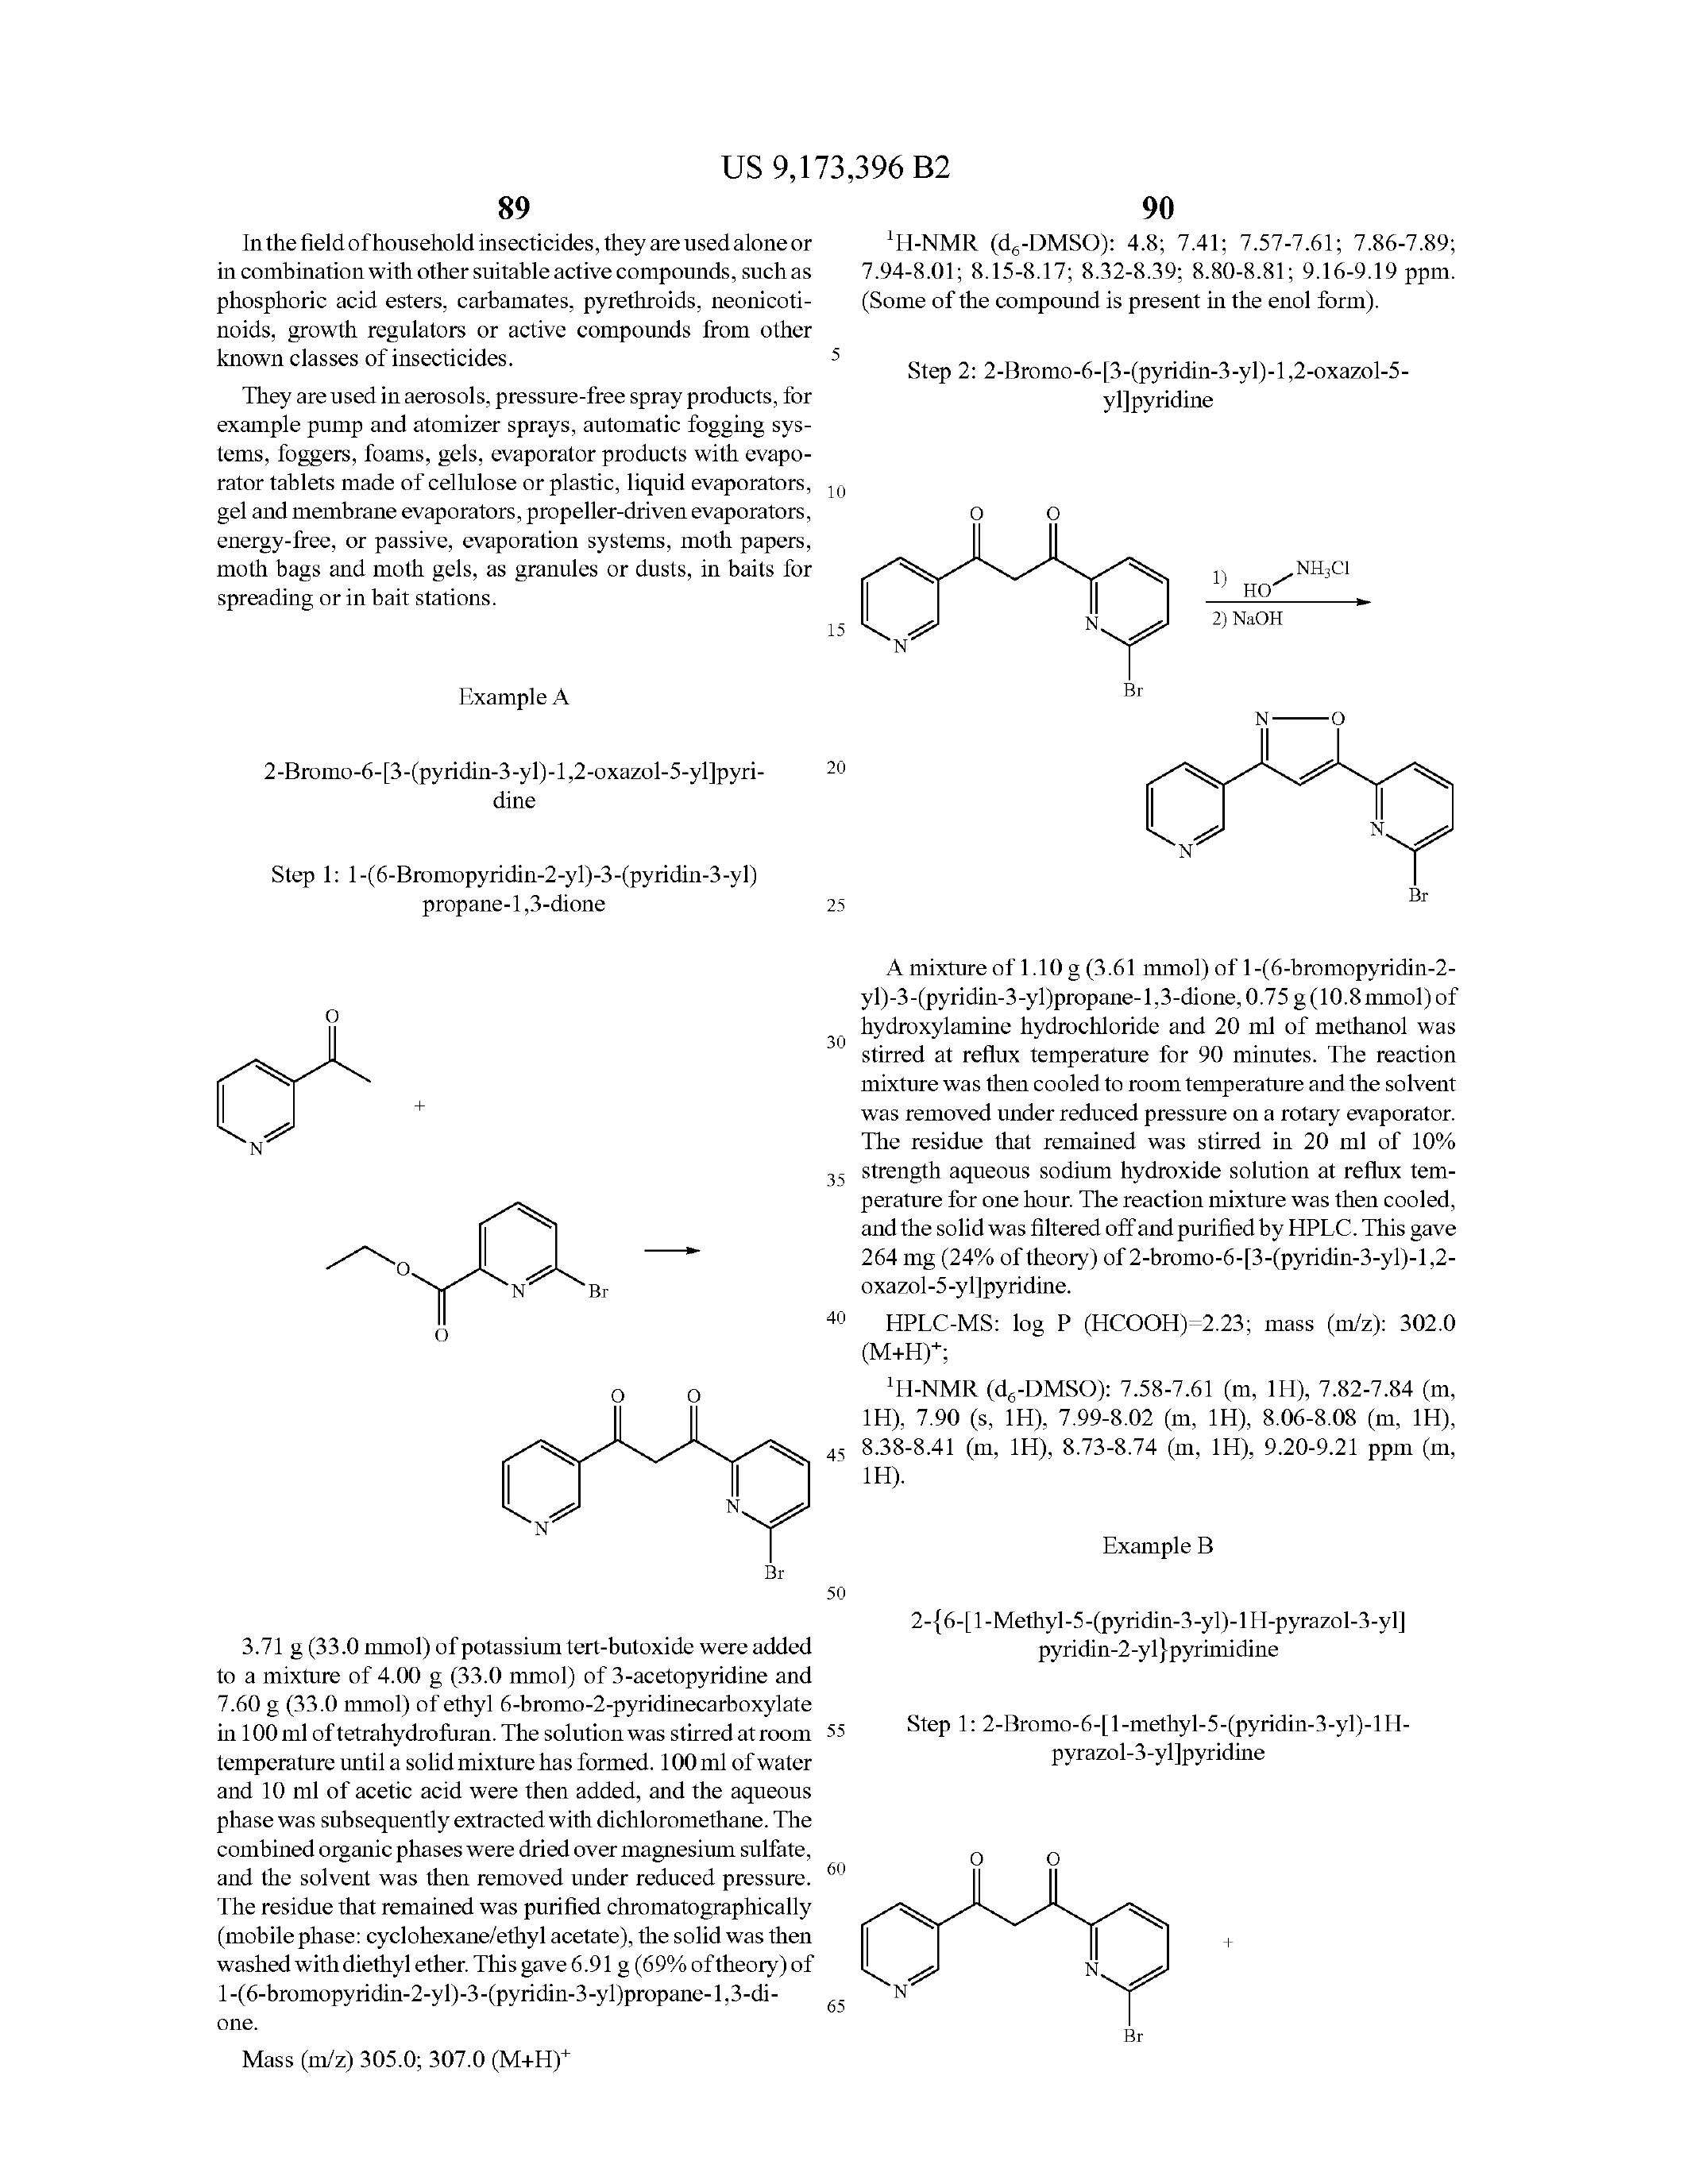relevant-structures: (855, 1826, 1216, 2062)
